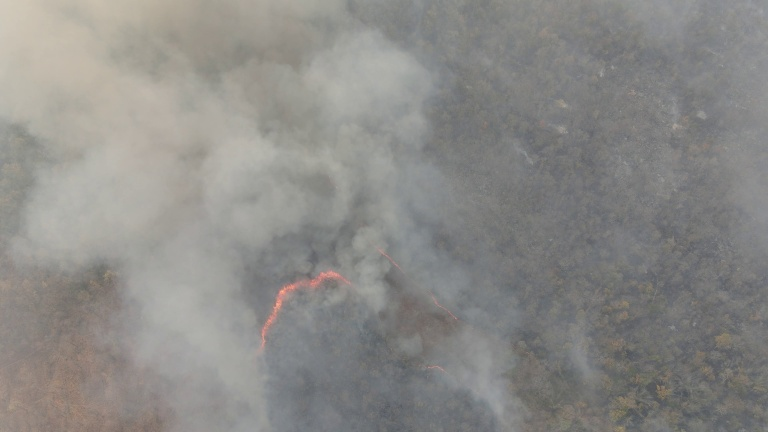fire: (251, 269, 361, 370), (363, 236, 413, 281), (422, 287, 466, 329), (415, 360, 445, 377)
smoke: (7, 14, 287, 410), (260, 26, 442, 239), (461, 343, 517, 422)
